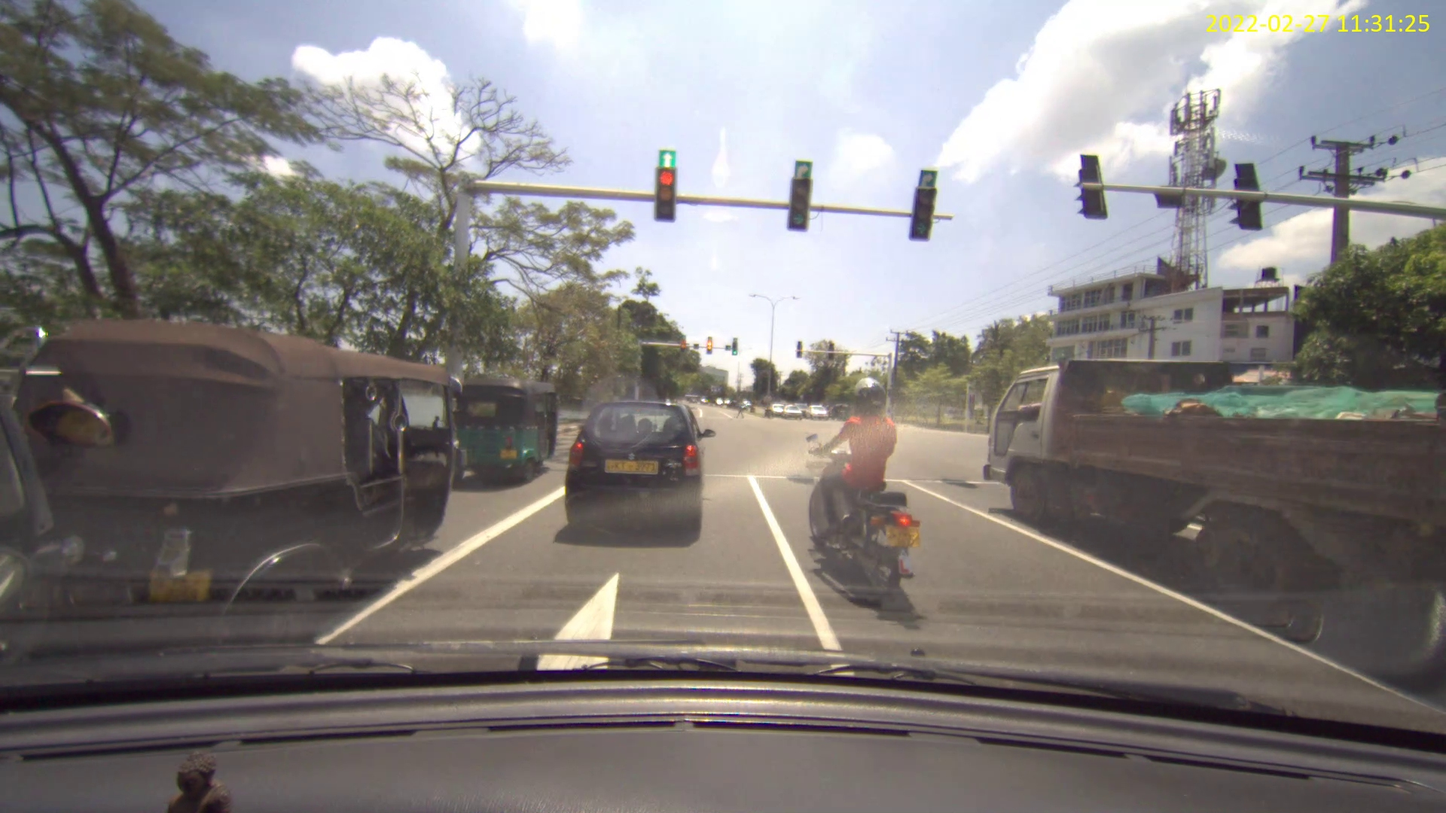Green: (731, 341, 737, 355)
Green-right: (908, 185, 938, 242), (786, 178, 813, 232)
Red-Yellow: (654, 166, 677, 223), (706, 340, 712, 354), (680, 340, 685, 352)
